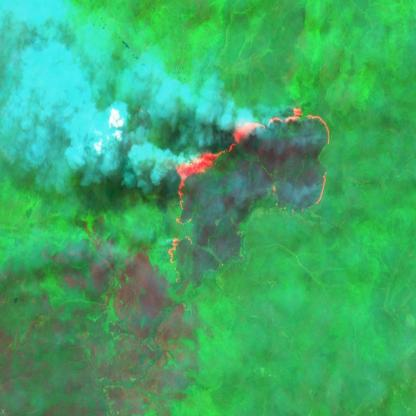fire: (165, 107, 332, 267)
